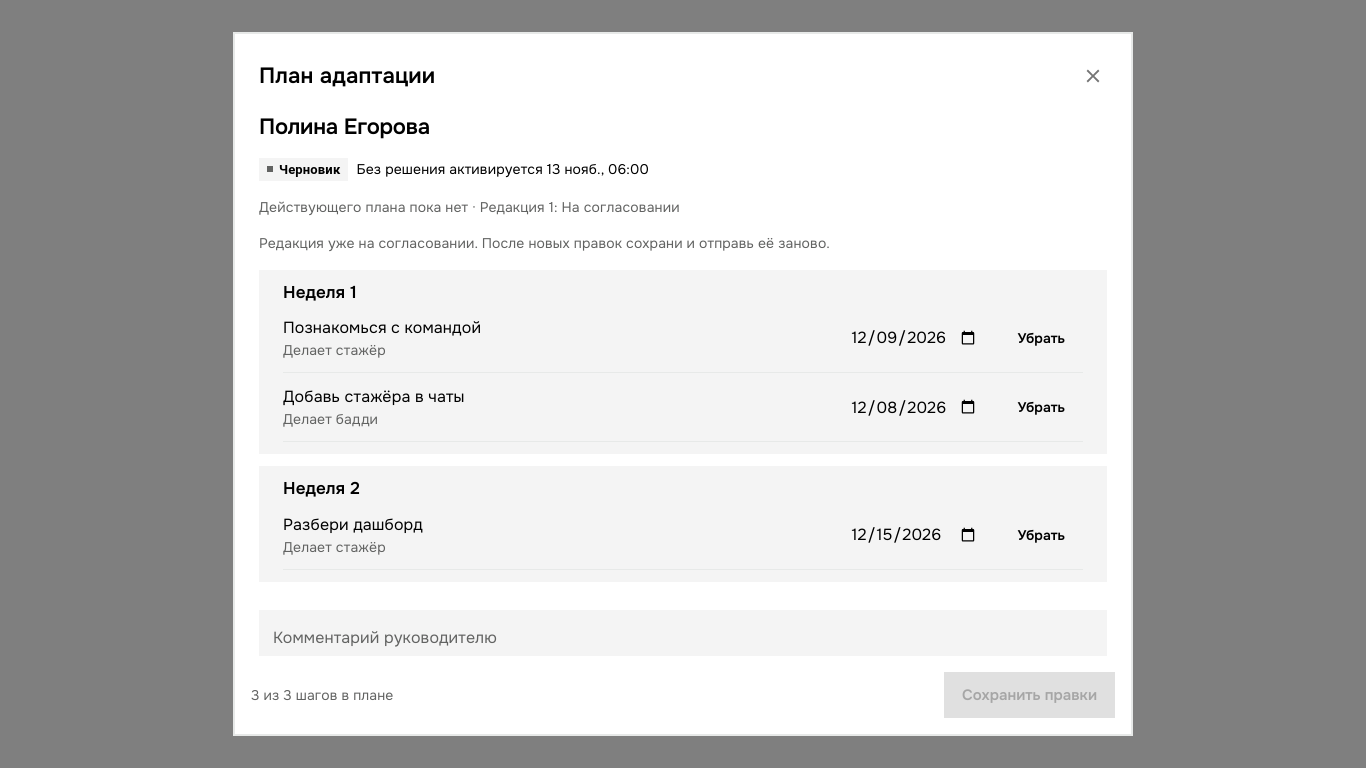
Test: PlanDraftDialog › reverting a change leaves nothing to save
Expected: the heading "Полина Егорова" is shown, [259, 113, 430, 141]
Step 1. Click the button "Убрать" in the row of "Познакомься с командой" → {"x": 1041, "y": 338}, box [1000, 316, 1083, 360]
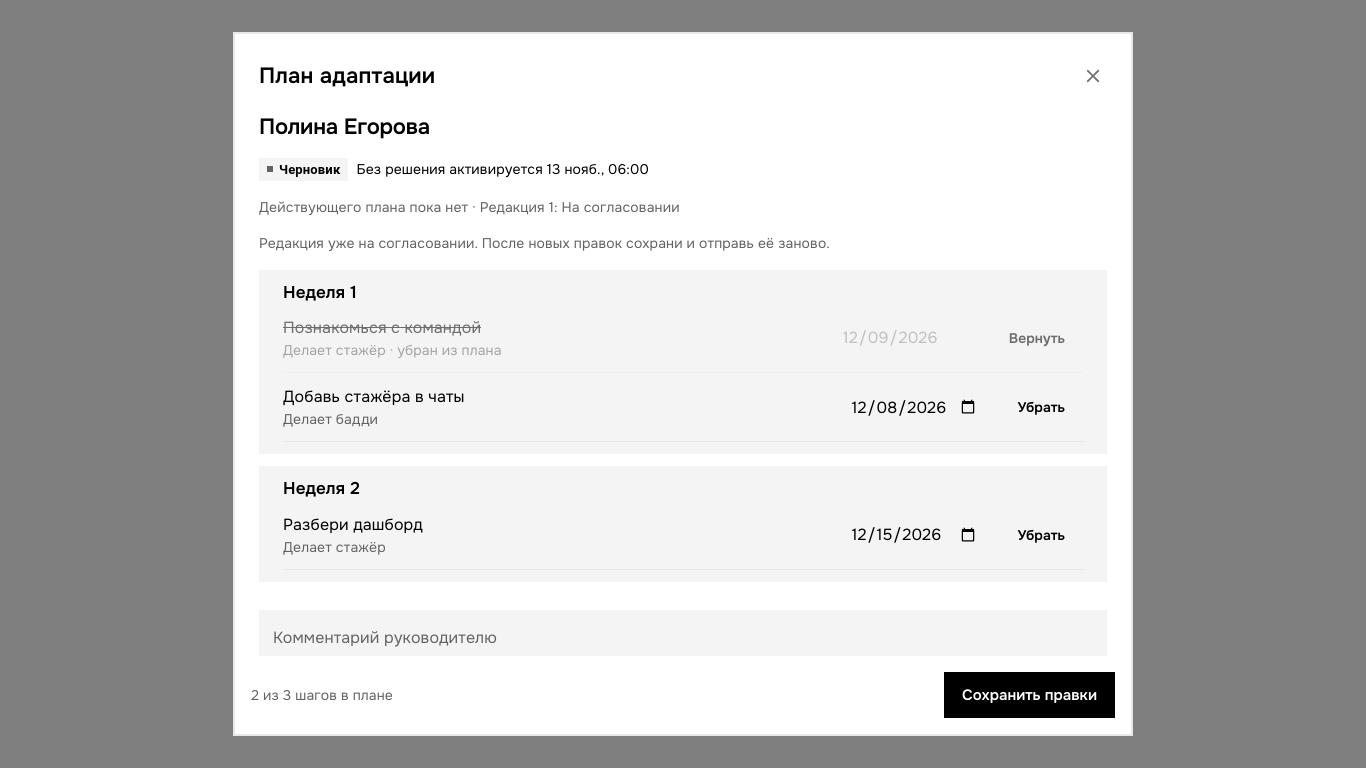
Now the button "Сохранить правки" is enabled, box [944, 672, 1115, 718]
Step 2. Click the button "Вернуть" → {"x": 1037, "y": 338}, box [991, 316, 1083, 360]
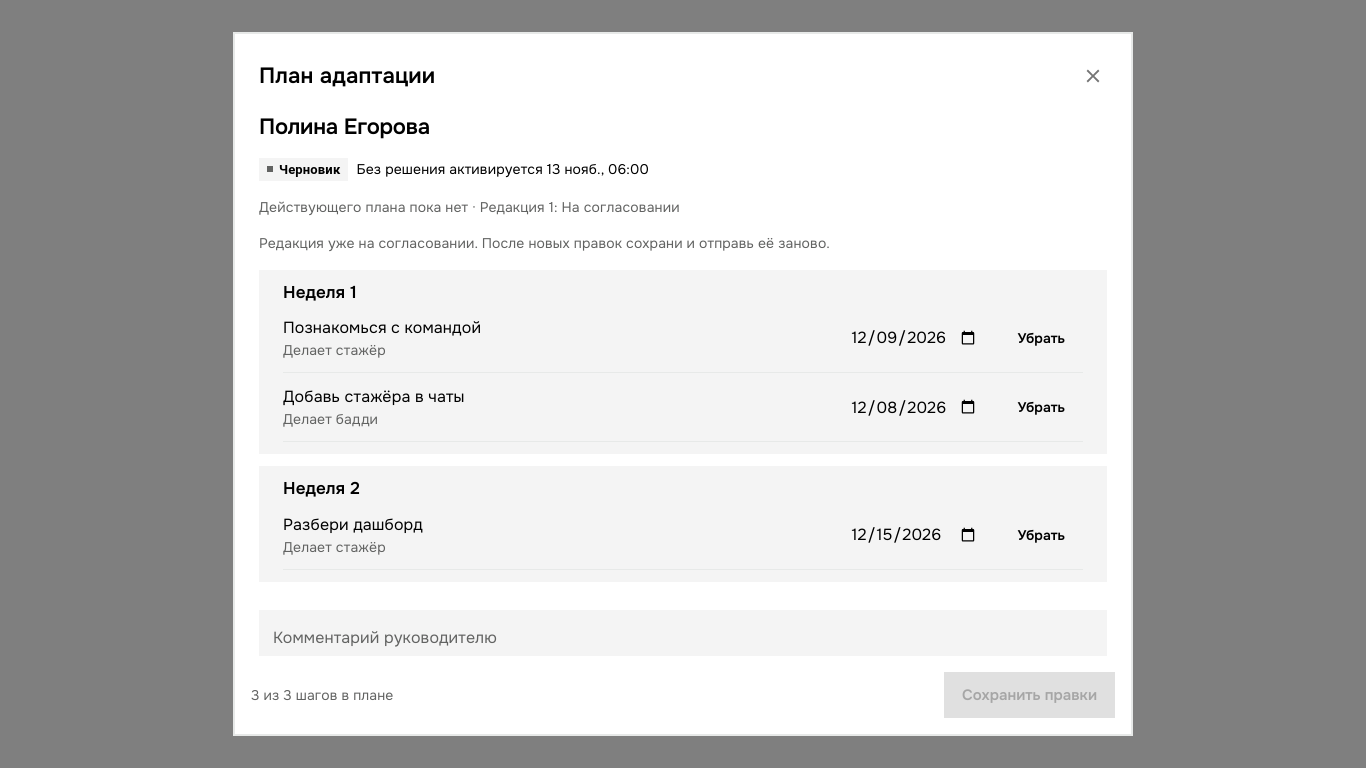
Now the button "Сохранить правки" is disabled, box [944, 672, 1115, 718]
